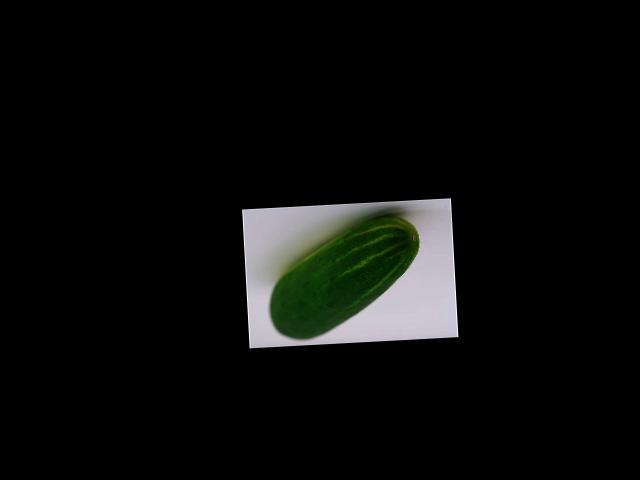cucumber: (265, 214, 423, 340)
